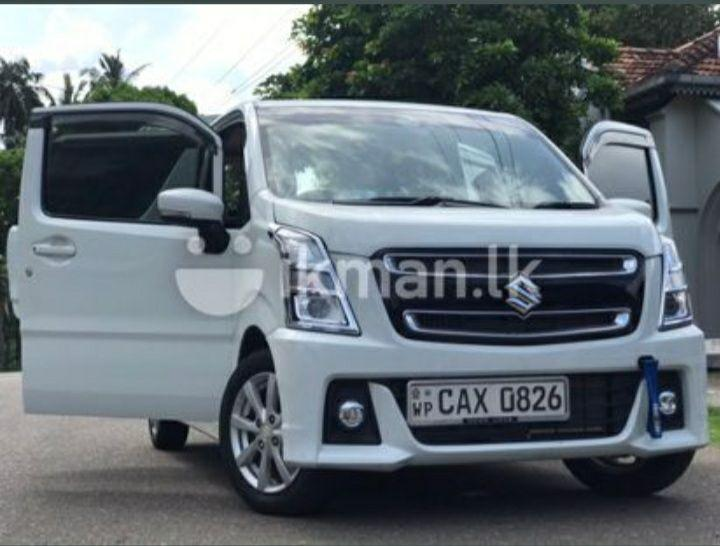license-plate: (406, 379, 564, 426)
